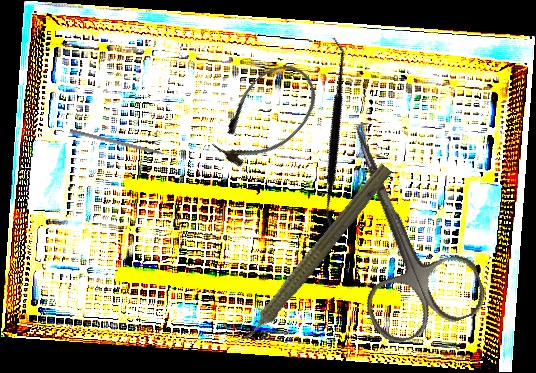Cannula: (201, 51, 331, 182)
Handpiece: (226, 156, 397, 357)
Hook Surgical: (69, 128, 177, 161)
Iris Scissors: (304, 104, 492, 350)
Spatula Surgical: (249, 36, 417, 233)
